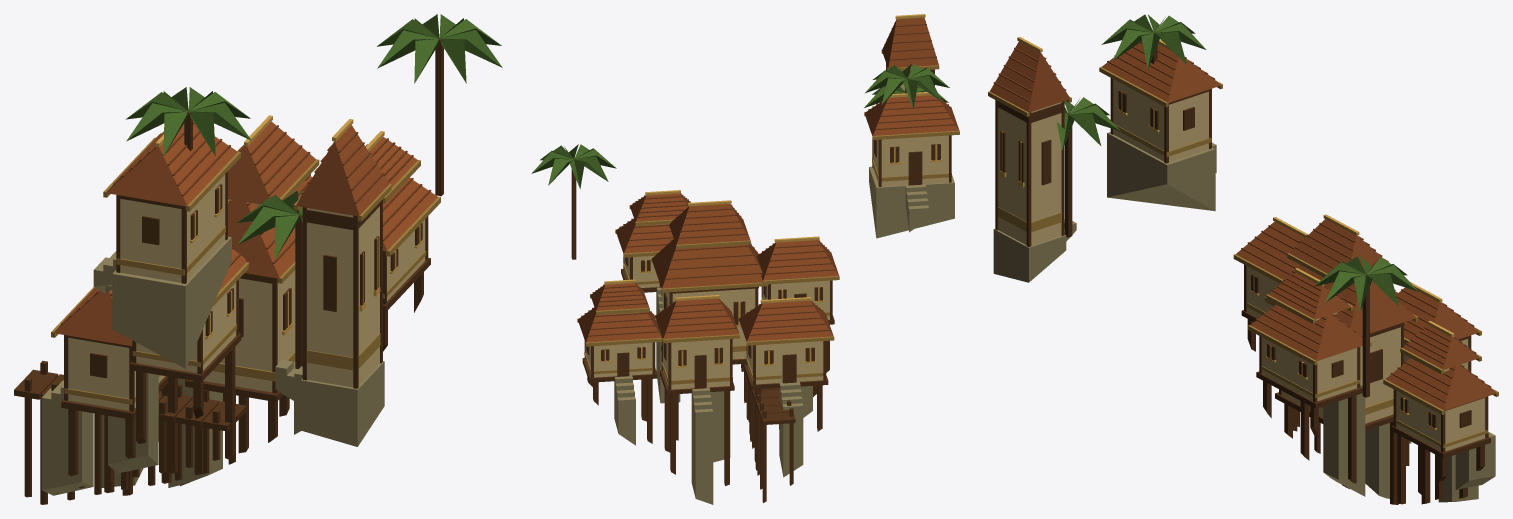
The model's file is makassar.obj.
The picture shows the model from 3 angles, left to right: view 1: azimuth 30°, elevation 25°; view 2: azimuth 150°, elevation 25°; view 3: azimuth 270°, elevation 25°; orthographic projection. The views are drawn at different scales.
Visible parts, largest first — view 1: makassar; view 2: makassar; view 3: makassar.
Part boxes in pixels (x1,y1,x2,y2): makassar: (14, 14, 502, 504); makassar: (531, 14, 959, 504); makassar: (988, 14, 1498, 504).
Bounding box in the file's own units: 14.79 × 15.26 × 15.85.
